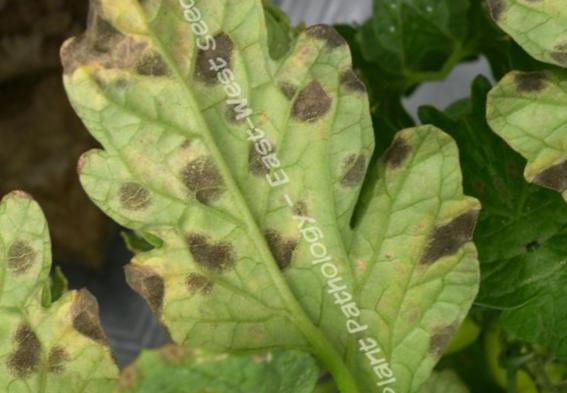Tomato mold leaf: (0, 0, 563, 393)
